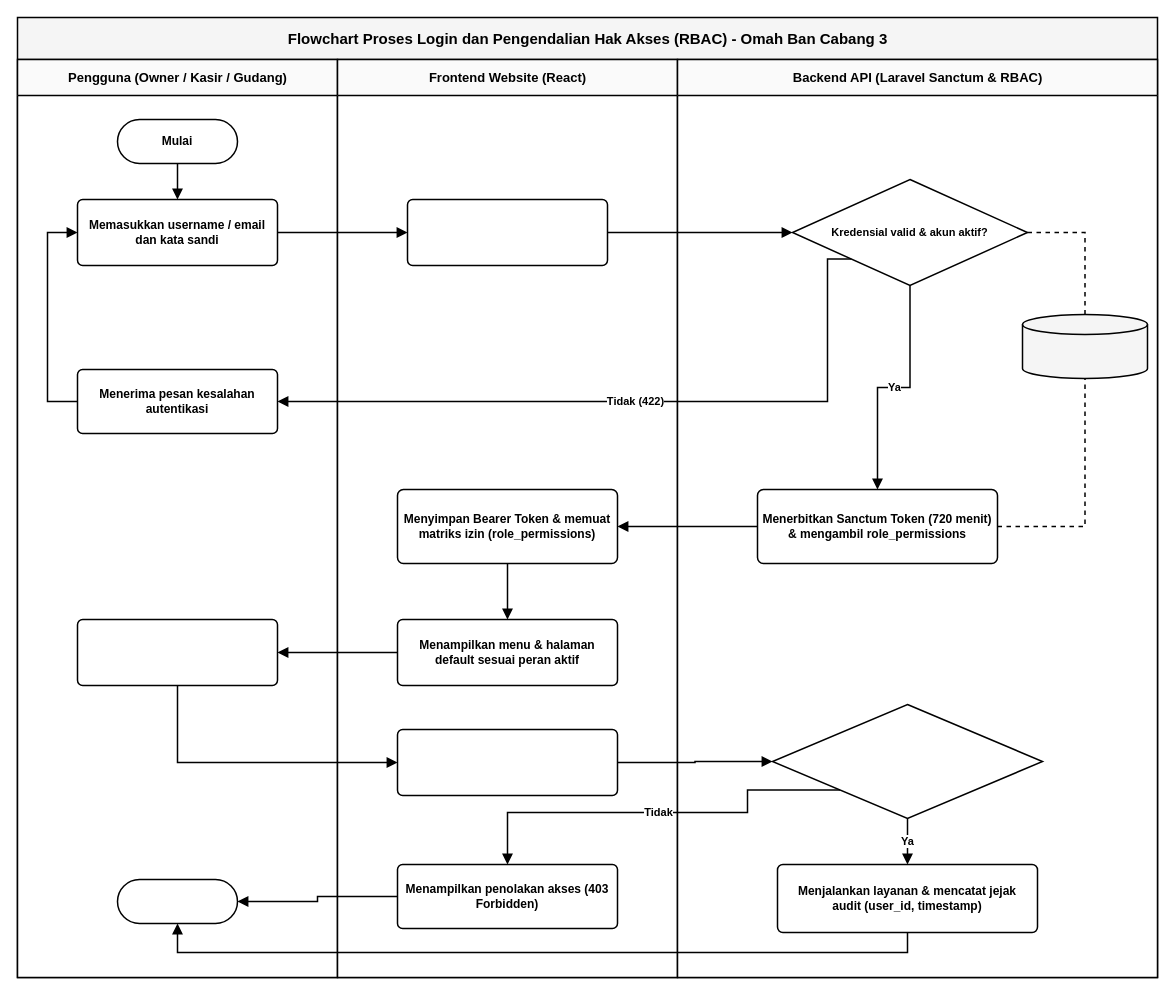
The diagram is 1176 pixels wide and 996 high, and some of its shapes have lost their labels. The centre of each missing label's shape, as x and y in pixels:
Database Users & Role Permissions: point (1084, 346)
Memilih menu / fitur operasional sesuai peran: point (177, 652)
Mengirim permintaan POST /auth/login: point (507, 232)
Mengirim request API dengan header Authorization Bearer Token: point (507, 762)
Middleware RBAC: Role = OWNER atau izin diizinkan?: point (907, 761)
Selesai: point (177, 901)
